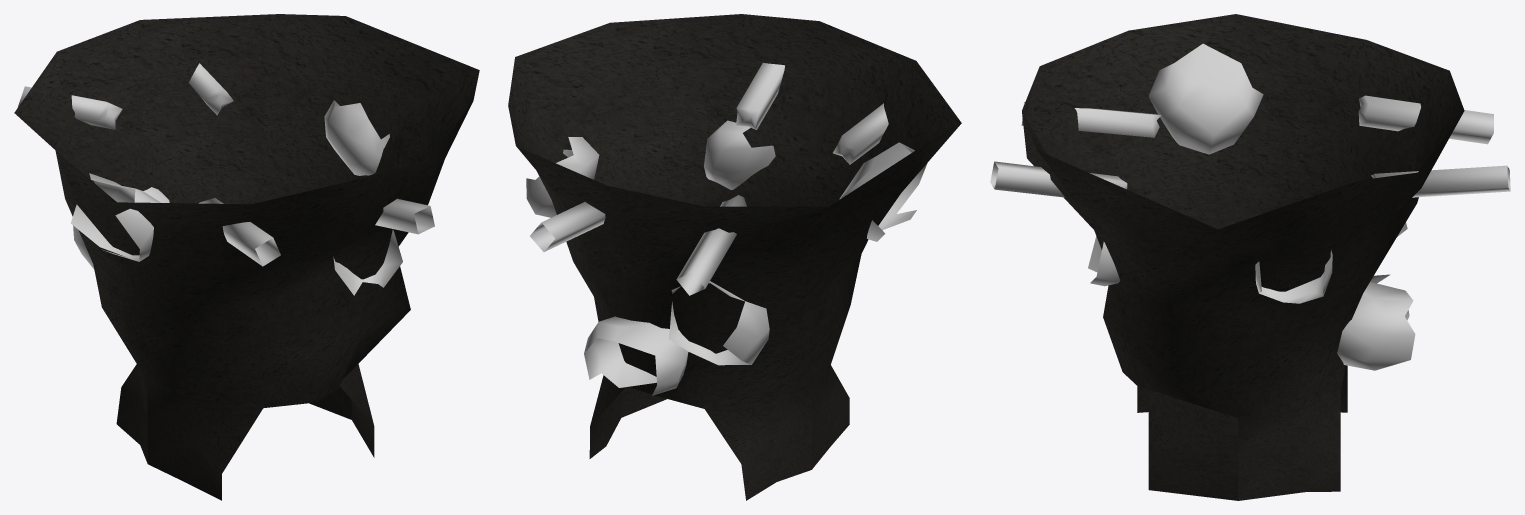
Rendered from caved_in_roof_arched.dae.
3 views of the same model, side by side, from view 1: azimuth 30°, elevation 25°; view 2: azimuth 150°, elevation 25°; view 3: azimuth 270°, elevation 25° (orthographic).
Parts seen in each view (by area): view 1: polySurface4, polySurface129; view 2: polySurface4, polySurface129; view 3: polySurface4, polySurface129.
Boxes of the visible parts, x1=… form: polySurface4: x1=14, y1=14, x2=479, y2=500; polySurface129: x1=18, y1=63, x2=434, y2=295; polySurface4: x1=508, y1=14, x2=961, y2=500; polySurface129: x1=526, y1=62, x2=927, y2=395; polySurface4: x1=1022, y1=14, x2=1464, y2=500; polySurface129: x1=990, y1=43, x2=1510, y2=370.
Bounding box in the file's own units: 10.75 × 8.6 × 11.69.
